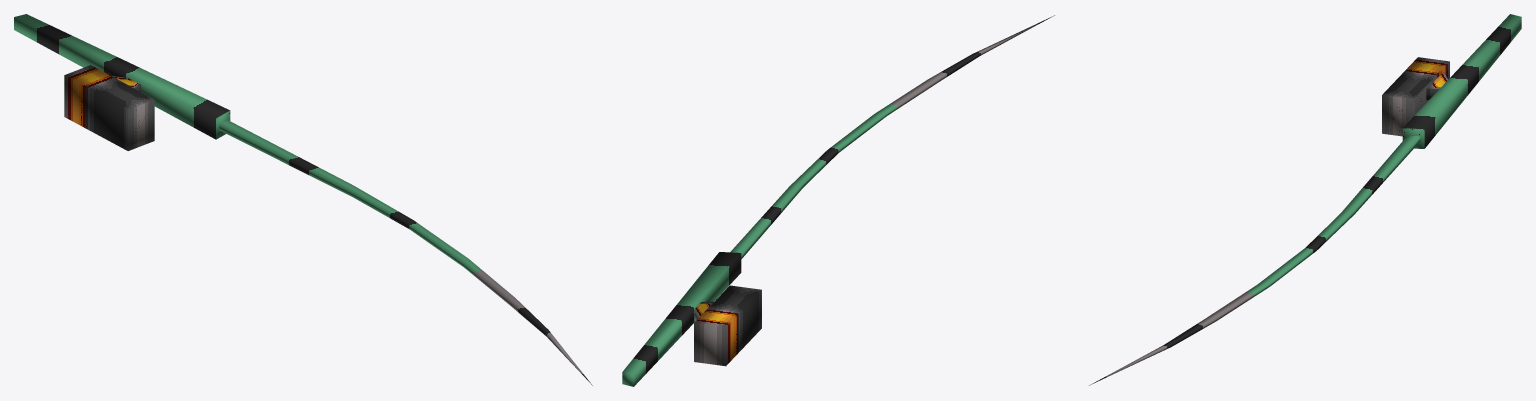
3 renders of one model, left to right at view 1: azimuth 30°, elevation 25°; view 2: azimuth 150°, elevation 25°; view 3: azimuth 330°, elevation 25°, orthographic. The views are drawn at different scales.
Parts seen in each view (by area): view 1: 1311equip02_d; view 2: 1311equip02_d; view 3: 1311equip02_d.
Part boxes in pixels (x1,y1,x2,y2): 1311equip02_d: (14, 14, 592, 385); 1311equip02_d: (622, 15, 1054, 386); 1311equip02_d: (1089, 14, 1521, 385).
Bounding box in the file's own units: 0.2498 × 0.0847 × 1.82.
Materials: 1 (1 with a texture image).
